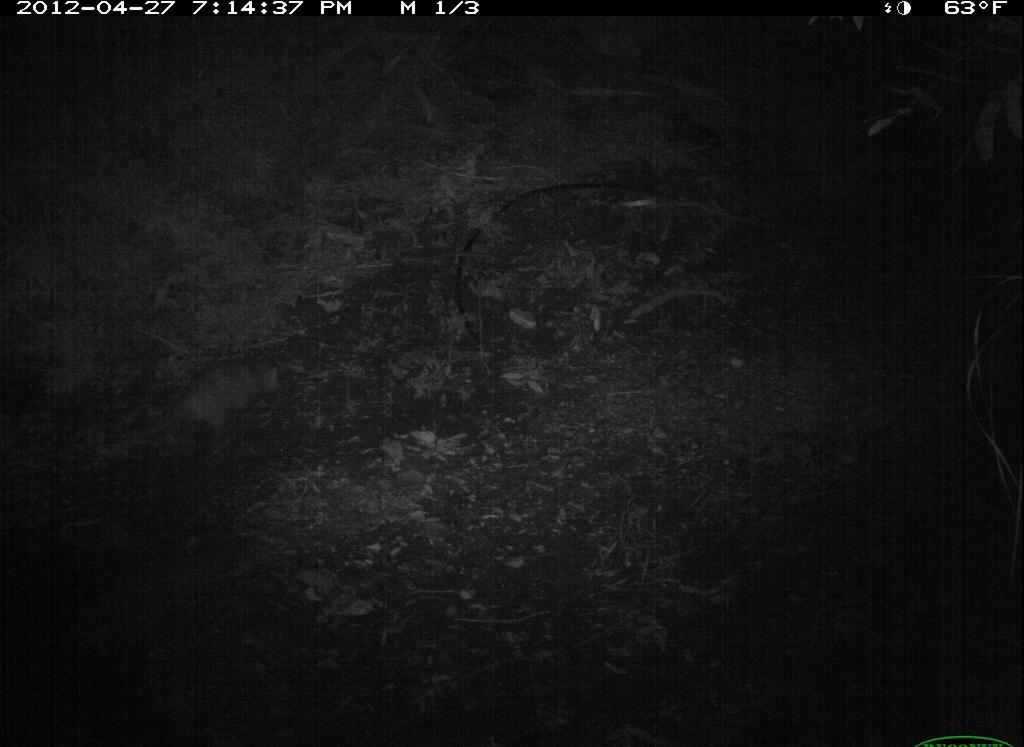opossum: (130, 333, 309, 457)
